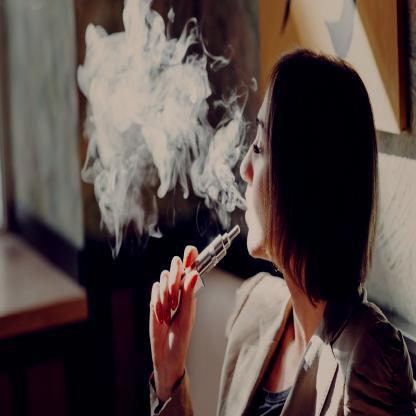person: (240, 48, 415, 415)
smoke: (76, 6, 209, 202), (197, 111, 245, 215)
